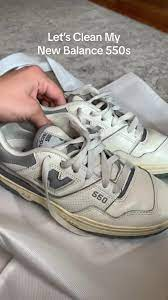new_balance_550_grey: (0, 112, 168, 238)
